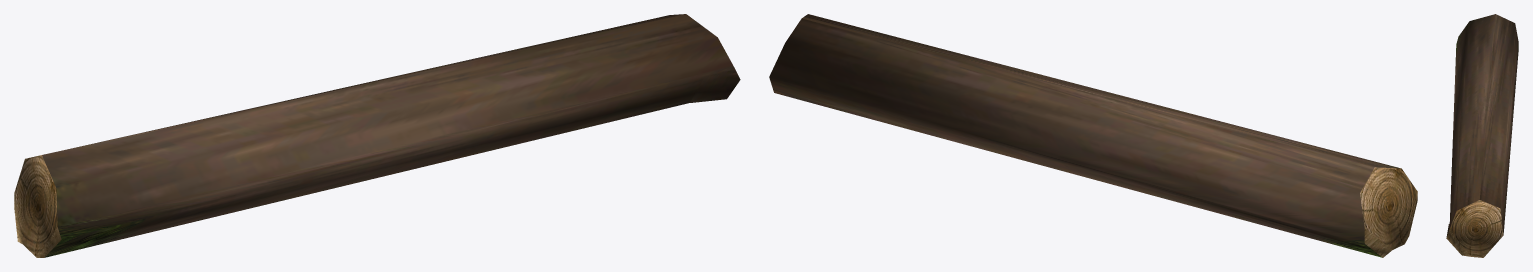
File: nafltr83.dae
The picture shows the model from 3 angles, left to right: view 1: azimuth 30°, elevation 25°; view 2: azimuth 150°, elevation 25°; view 3: azimuth 270°, elevation 25°; orthographic projection. The views are drawn at different scales.
Visible parts, largest first — view 1: empty; view 2: empty; view 3: empty.
Part boxes in pixels (box(x1,y1,x2,y2)): empty: box(14, 14, 740, 257); empty: box(769, 14, 1417, 257); empty: box(1446, 14, 1518, 257).
Bounding box in the file's own units: 3.58 × 0.5533 × 0.4463.
Materials: 1 (1 with a texture image).
